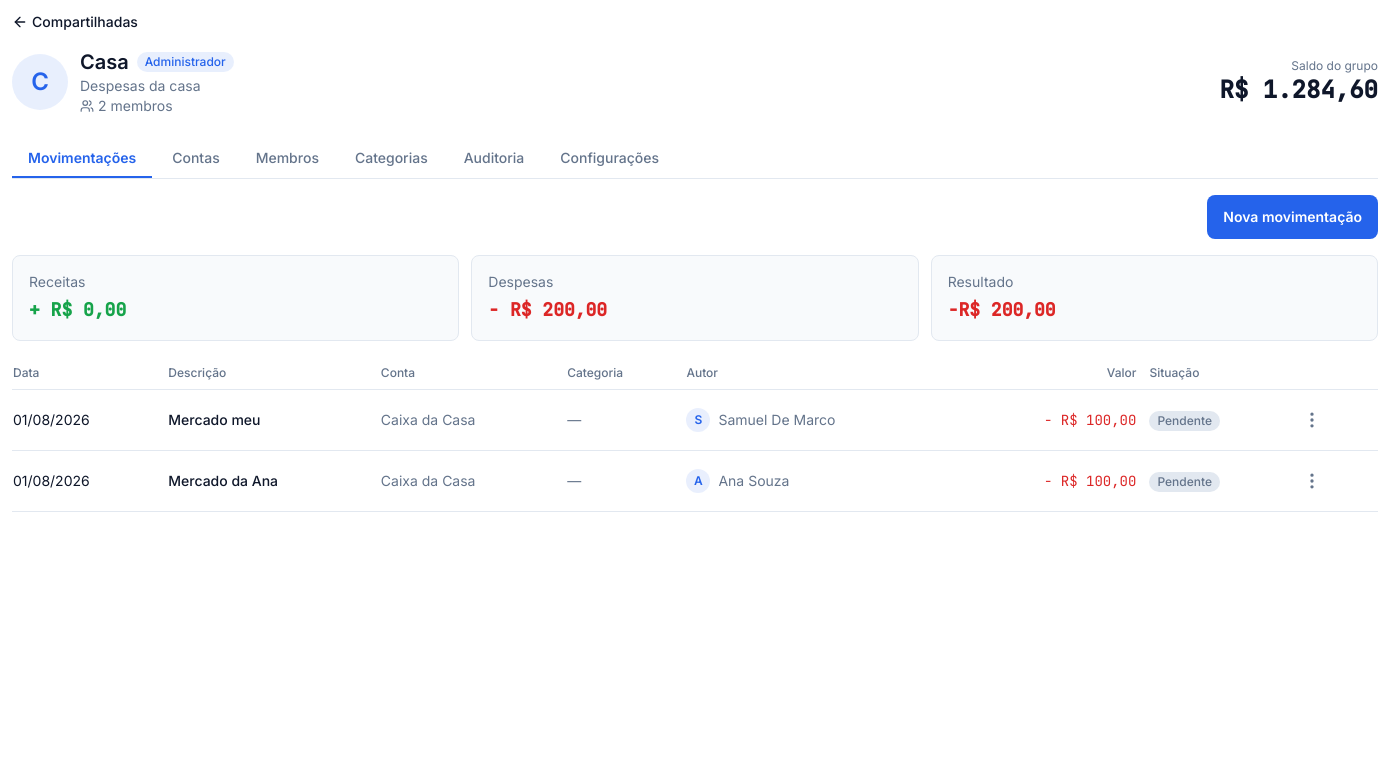
Test: DetalheCompartilhada › a aba selecionada vai para a URL
This screenshot has width=1390, height=780.
What coordinates should you click on to do the following:
click the tab "Membros"
I would click on:
 (287, 159)
Its box is [240, 140, 335, 178].
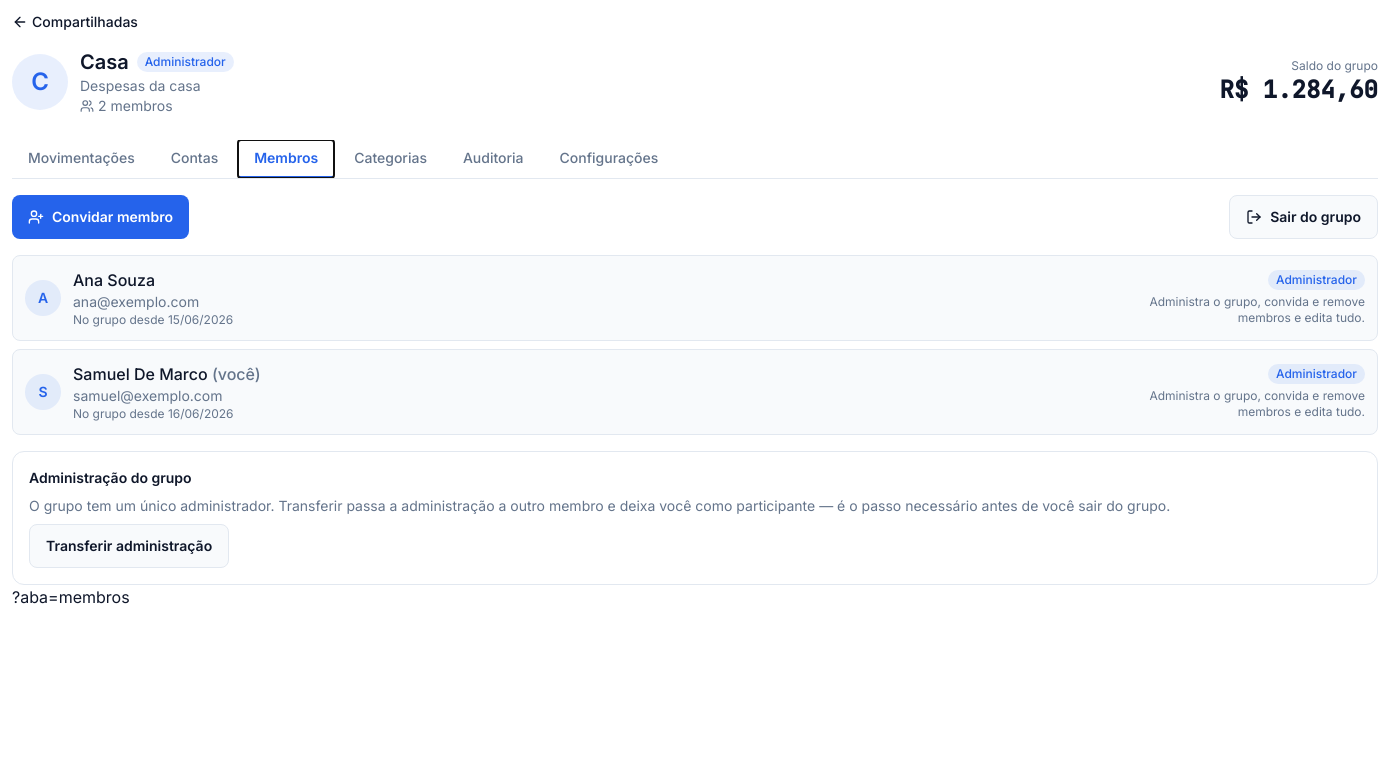
Now the text with test id "busca-atual" shows "aba=membros", box [12, 587, 130, 607]
